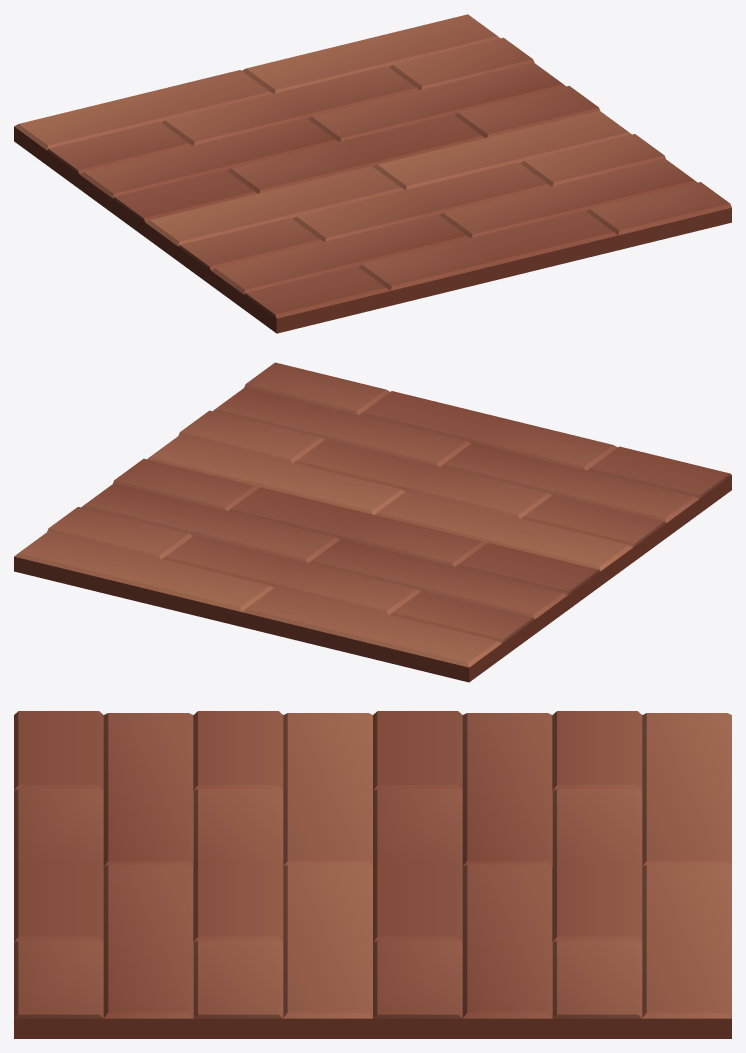
Rendered from floor_wood_large.gltf.
The picture shows the model from 3 angles, top to bottom: view 1: azimuth 30°, elevation 25°; view 2: azimuth 150°, elevation 25°; view 3: azimuth 270°, elevation 25°; orthographic projection. The views are drawn at different scales.
Visible parts, largest first — view 1: floor_wood_large; view 2: floor_wood_large; view 3: floor_wood_large.
Boxes of the visible parts, x1,y1,x2,y2 form: floor_wood_large: (14, 14, 731, 333); floor_wood_large: (14, 362, 731, 682); floor_wood_large: (14, 711, 731, 1038).
Size of the model in its own units: 4 by 0.15 by 4.
Materials: 1 (1 with a texture image).
